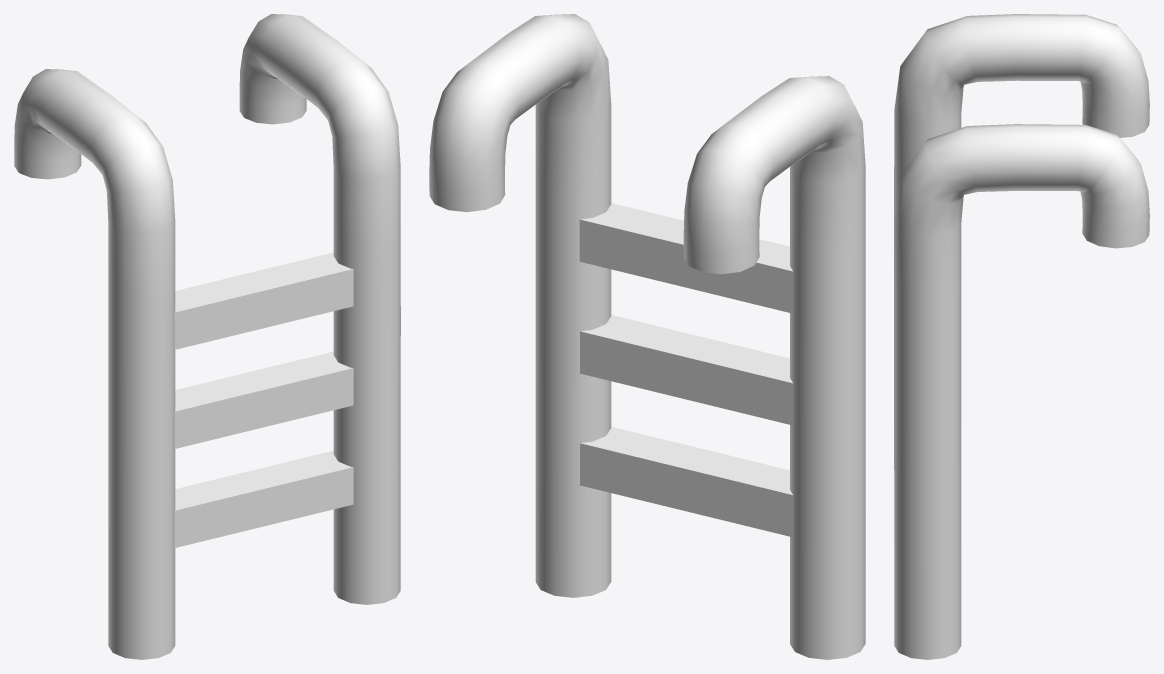
File: Pool_Stair.fbx
3 views of the same model, side by side, from view 1: azimuth 30°, elevation 25°; view 2: azimuth 150°, elevation 25°; view 3: azimuth 270°, elevation 25° (orthographic). The views are drawn at different scales.
Visible parts, largest first — view 1: Pool_Stair; view 2: Pool_Stair; view 3: Pool_Stair.
Boxes of the visible parts, <box> form: Pool_Stair: <box>14,14,400,659</box>; Pool_Stair: <box>429,14,865,659</box>; Pool_Stair: <box>894,14,1149,659</box>.
Bounding box in the file's own units: 92.96 × 162 × 72.6.
